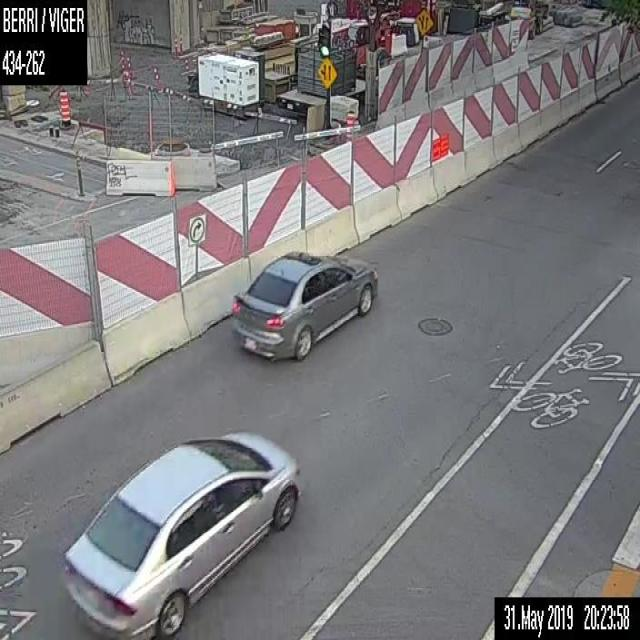construction: (57, 88, 70, 127), (346, 110, 356, 145)
vehicle: (63, 424, 299, 639), (229, 248, 377, 360), (150, 633, 164, 639)
